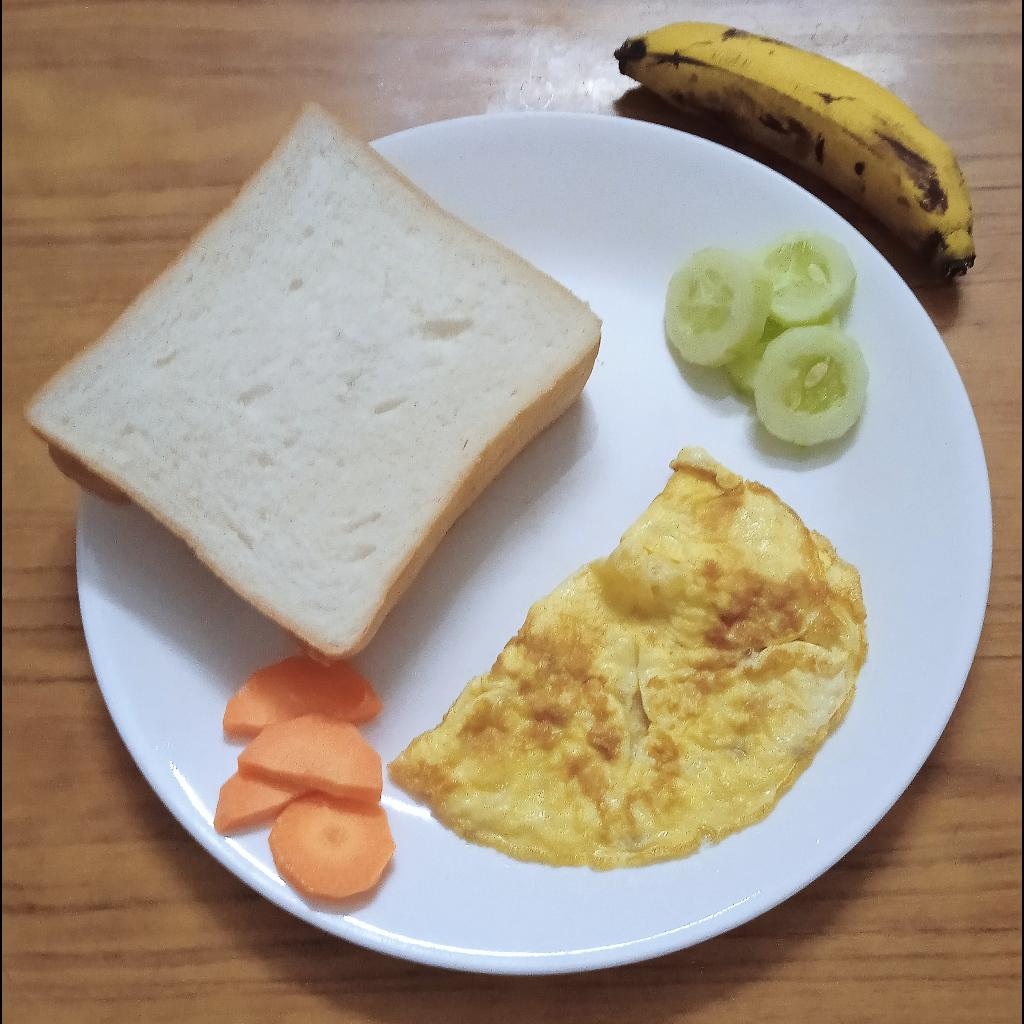banana: (616, 19, 977, 283)
bread: (22, 100, 602, 668)
carrot: (215, 656, 396, 901)
cucumber: (667, 231, 869, 447)
egg-poached: (388, 446, 868, 872)
